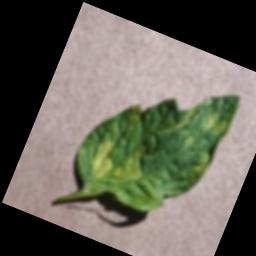Leaf_Mold: (110, 136, 154, 190), (83, 133, 122, 182), (201, 110, 228, 138)
